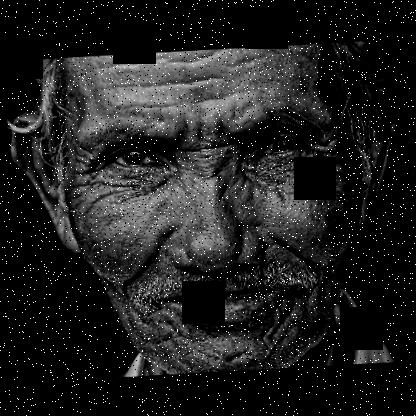Male: (3, 33, 414, 386)
